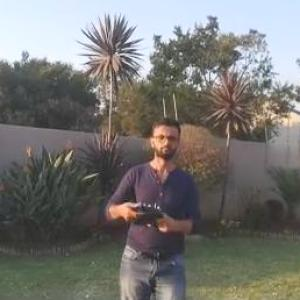follow: (102, 107, 208, 299)
